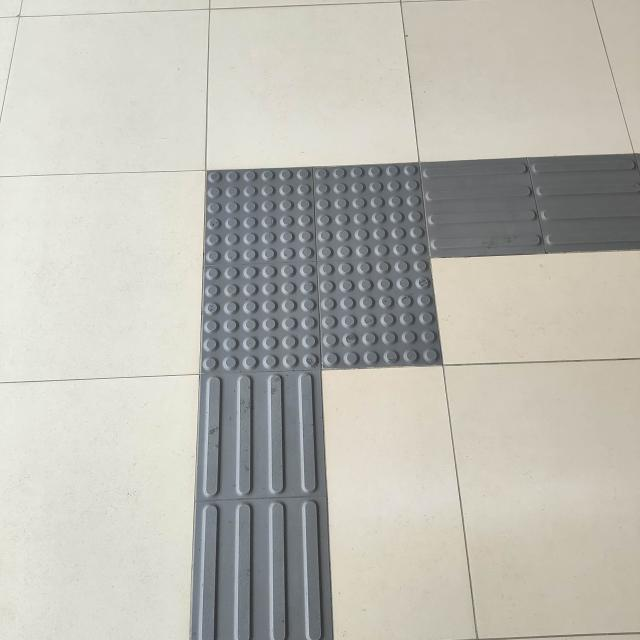kanan: (144, 120, 640, 484)
